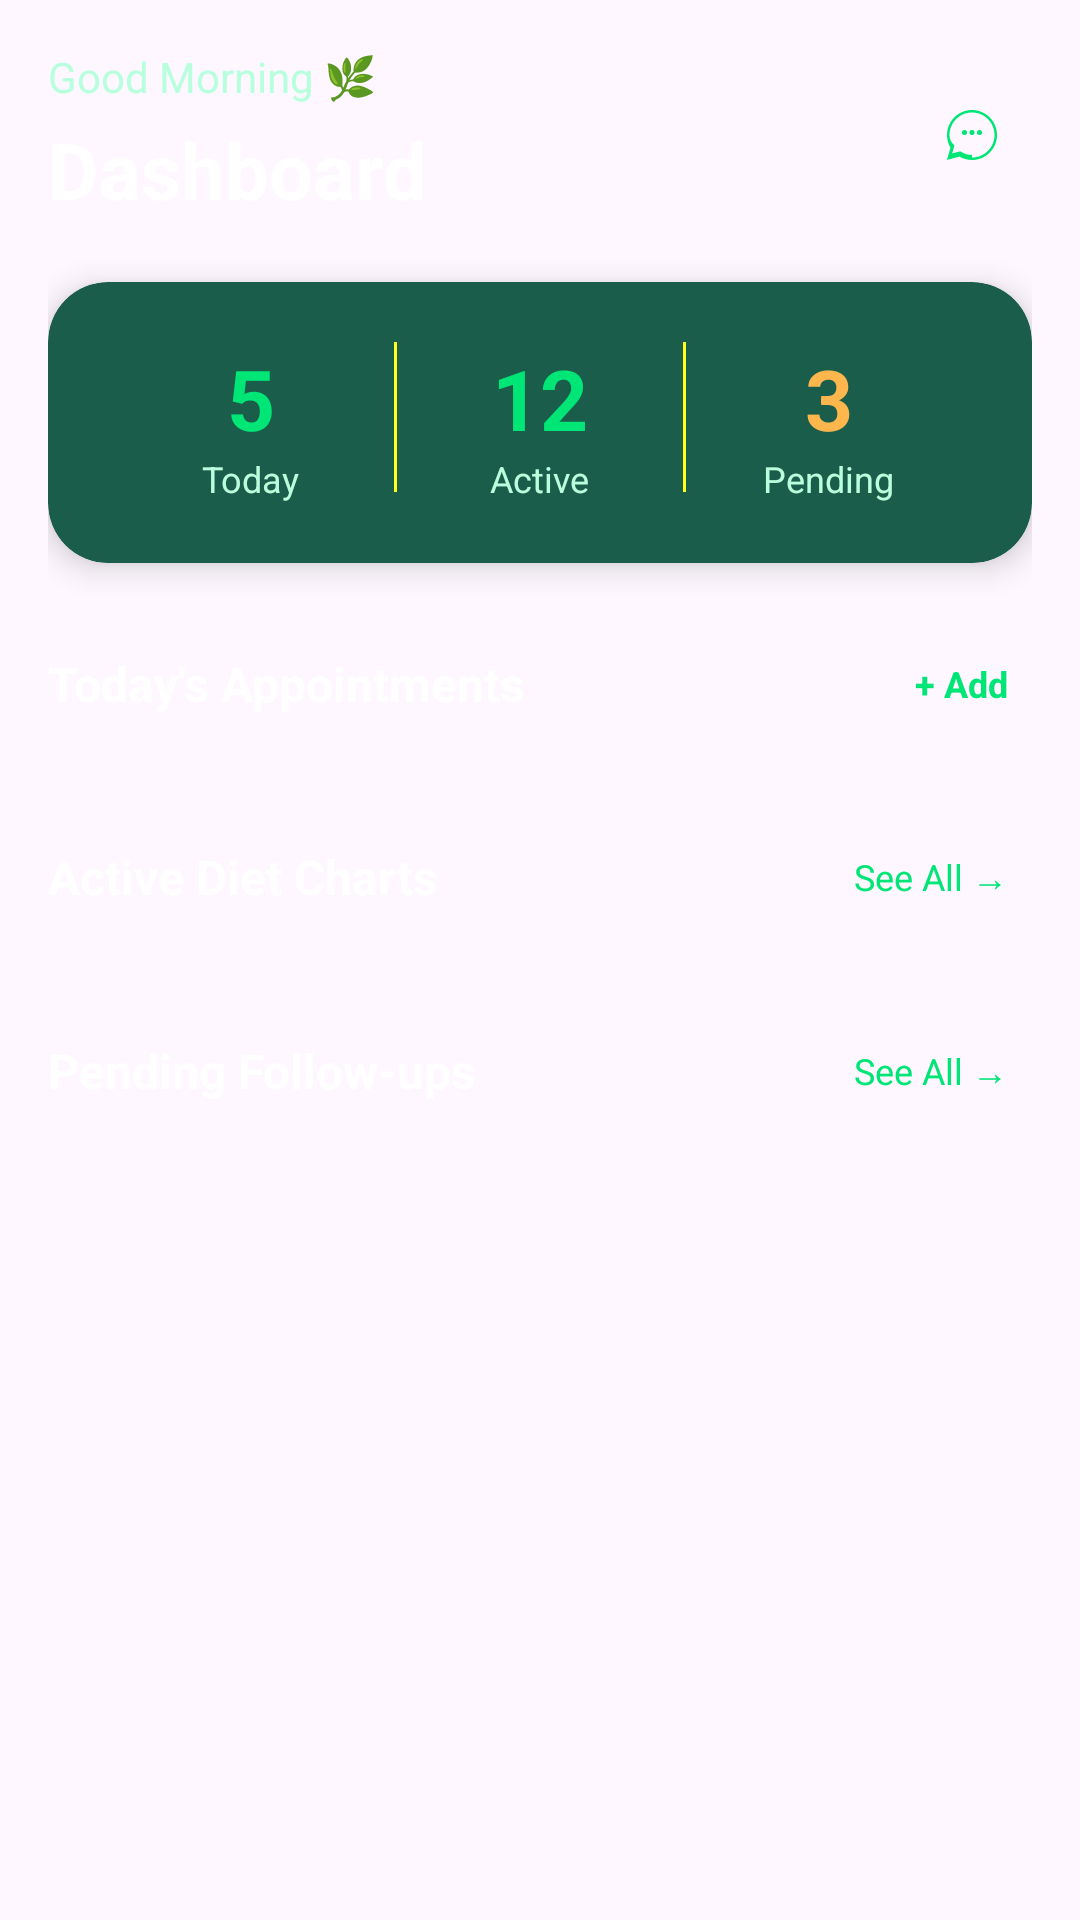

Screen size 1080*1920. Icon name, then its center in pixels as [x,y]:
chatbot: [972,135]
